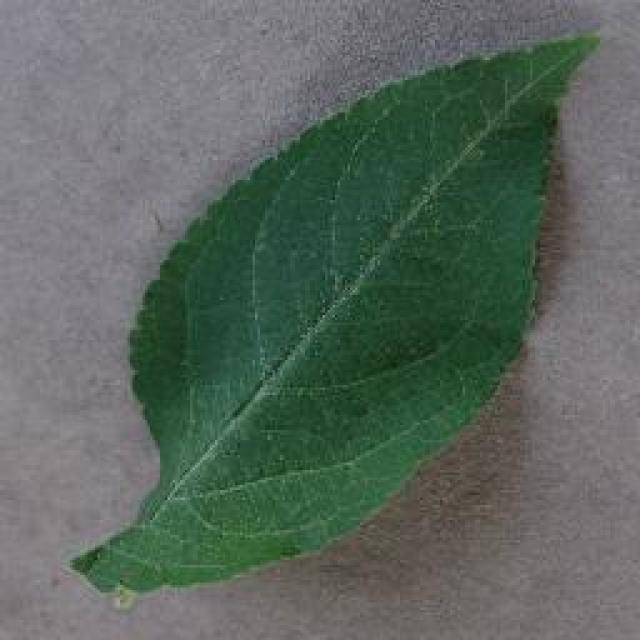apple healthy: (65, 25, 600, 607)
